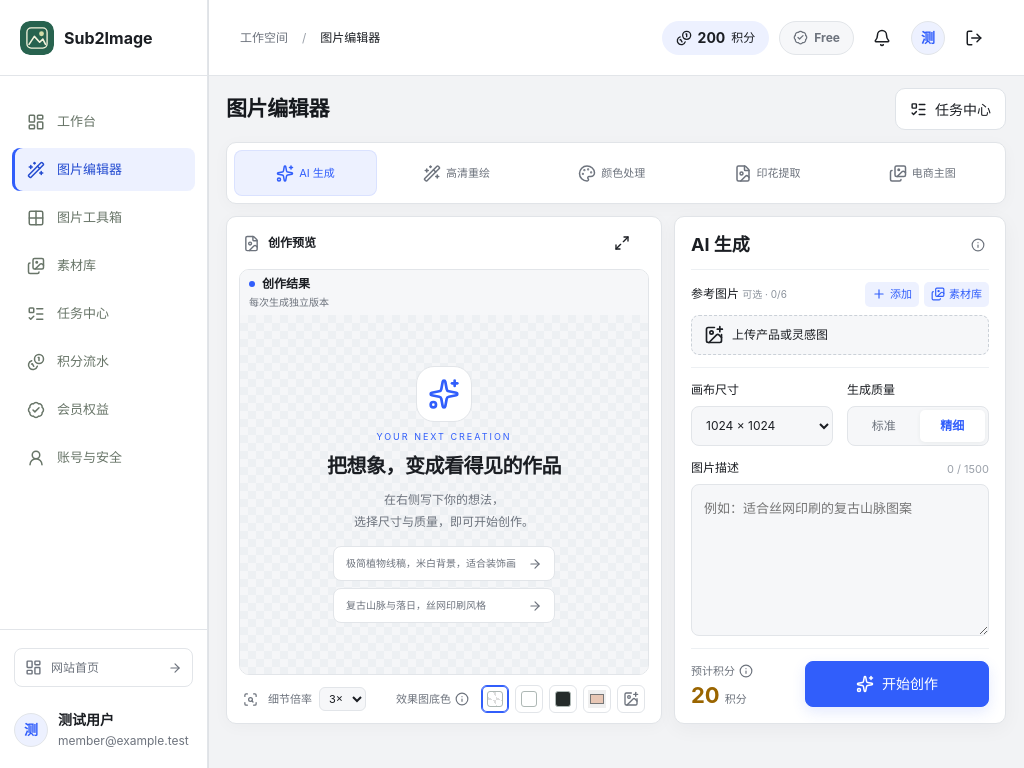
Studio task workflow › shows a request ID for server failures without discarding the quote
Step 1. Type "复古山脉海报" into the text box labelled "图片描述 0 / 1500" → (840, 560), box top-left (691, 484), bottom-right (989, 636)
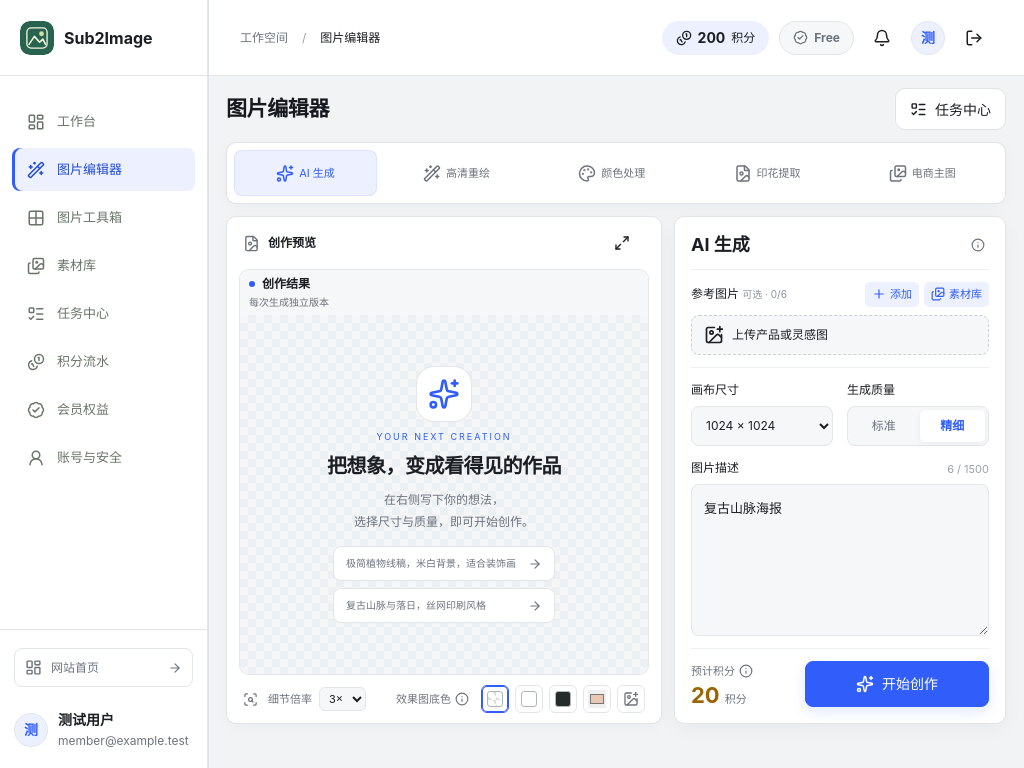
Step 2. Click the button "开始创作" → (897, 684), box top-left (805, 661), bottom-right (989, 707)
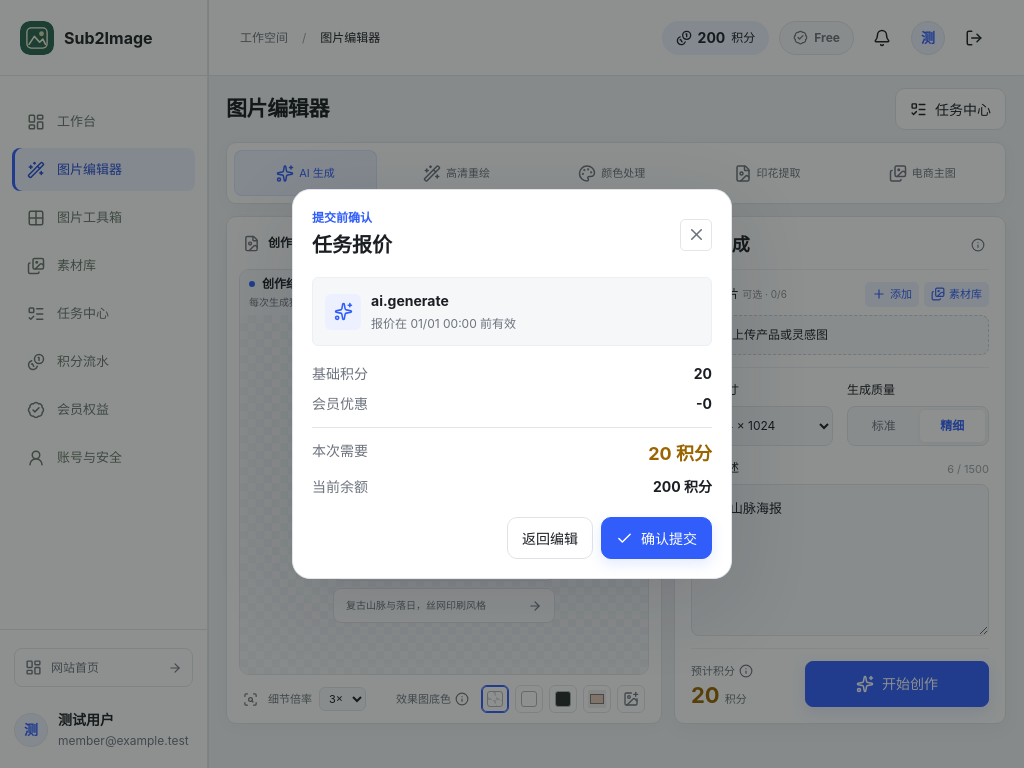
Step 3. Click the button "确认提交" → (656, 538), box top-left (601, 517), bottom-right (712, 559)
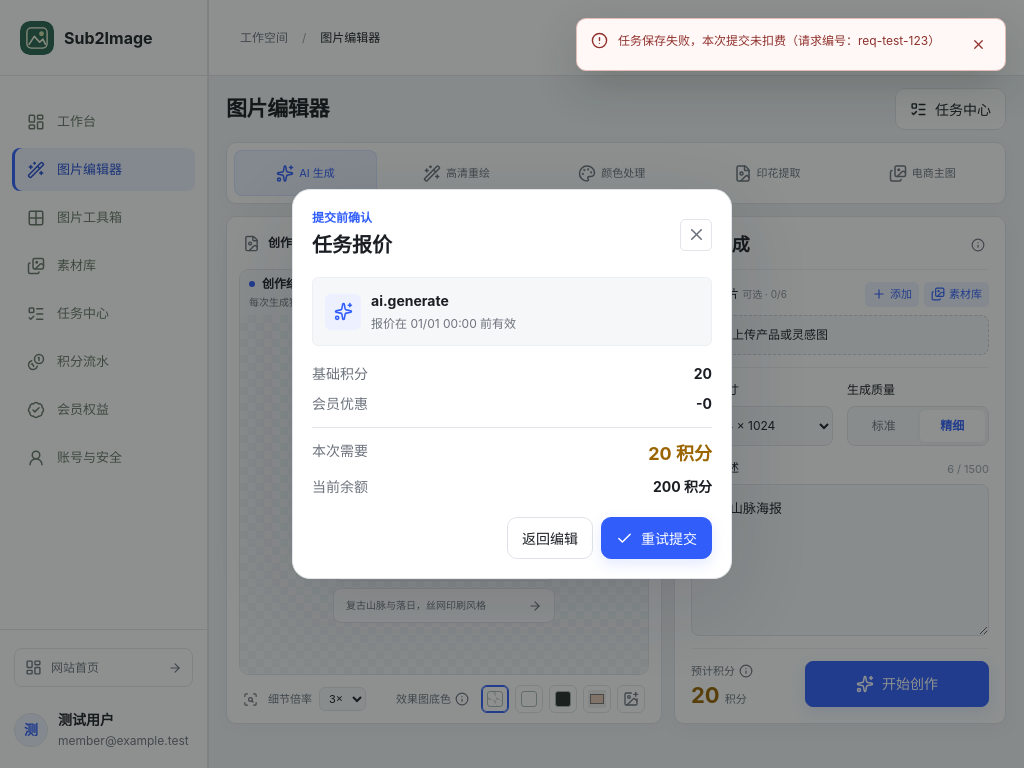
Result: the button "重试提交" is enabled at top-left (601, 517), bottom-right (712, 559)
Result: the message shows "req-test-123" at top-left (618, 33), bottom-right (940, 48)
